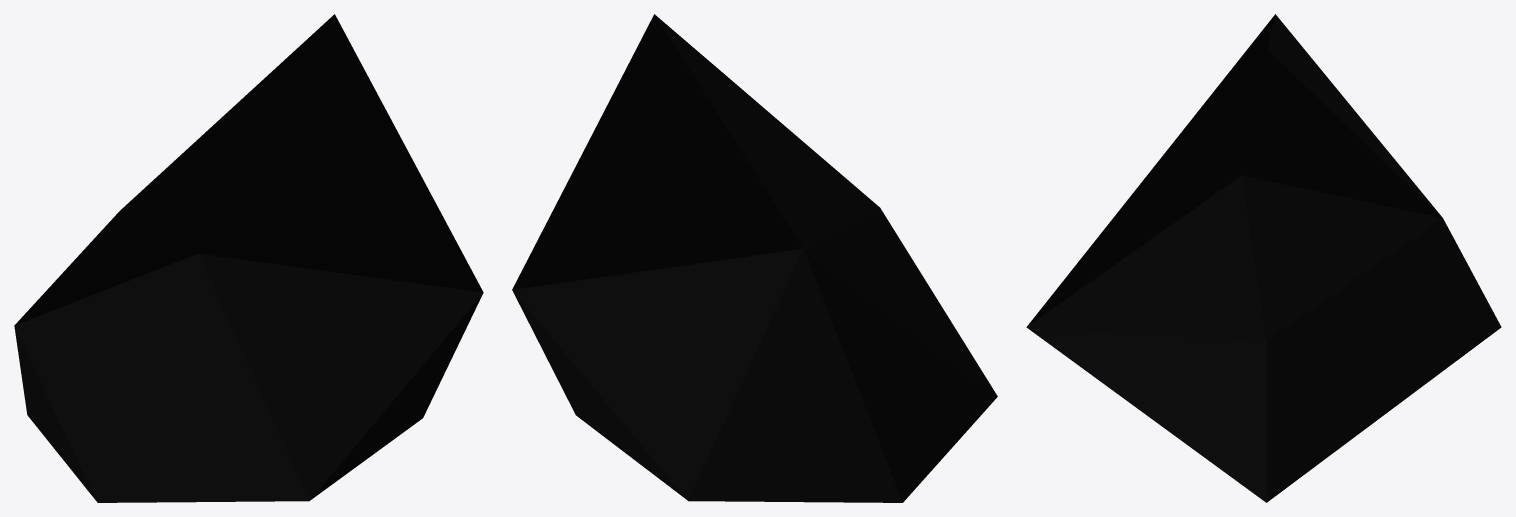
The picture shows the model from 3 angles, left to right: view 1: azimuth 30°, elevation 25°; view 2: azimuth 150°, elevation 25°; view 3: azimuth 270°, elevation 25°; orthographic projection. The views are drawn at different scales.
Size of the model in its own units: 0.1906 by 0.1855 by 0.1585.
Materials: 1 (1 with a texture image).
